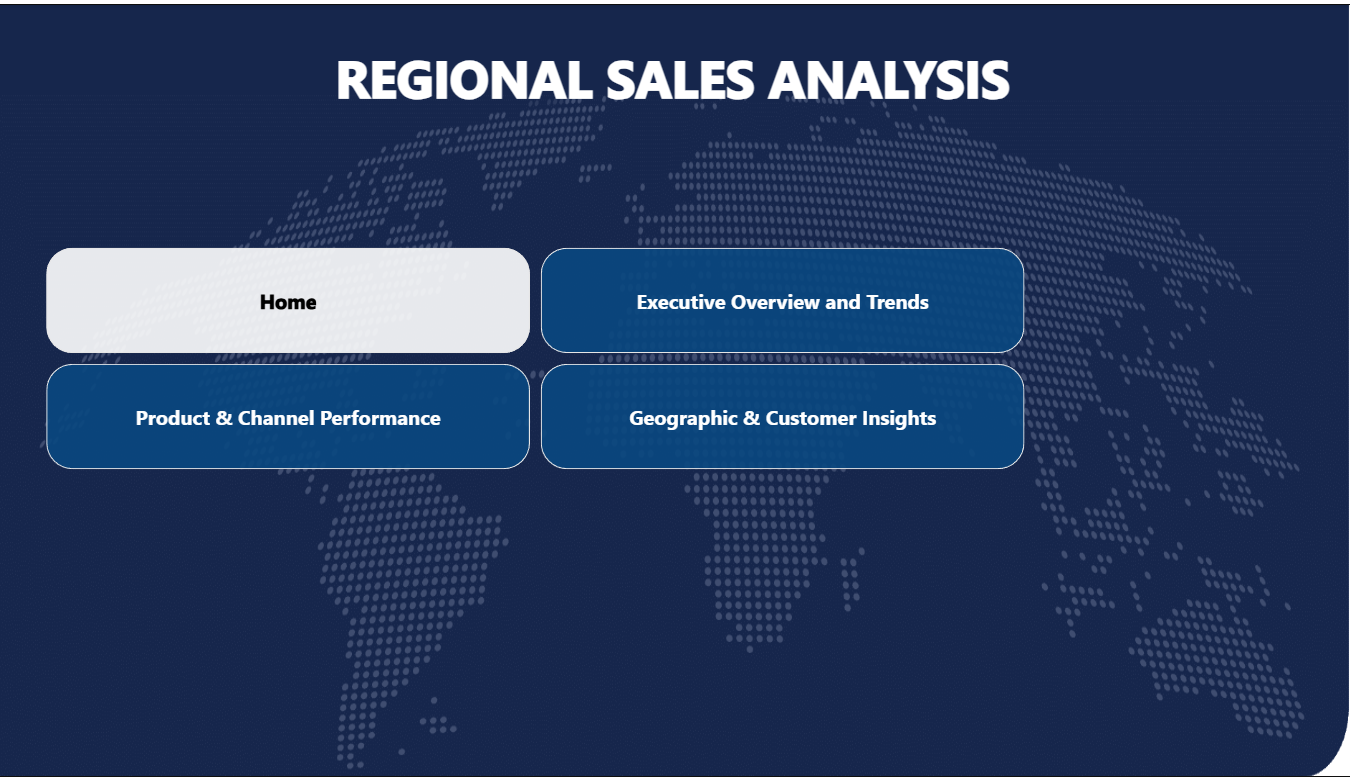

This screenshot's page, from the dashboard's own definition file:
{"tool":"powerbi","page":{"name":"Home","canvas":[1280,720],"ordinal":0},"visuals":[{"type":"textbox","box":[170.2,30.2,940,98.8],"z":0},{"type":"pageNavigator","box":[56.9,226.4,910.3,207],"z":1000}]}

Visuals, with their boxes in screenshot pixels (x1, y1, x2, y2), scaled from the page's 1280x720 canvas onto the 1350x777 screenshot:
textbox: l=180, t=33, r=1171, b=139
pageNavigator: l=60, t=244, r=1020, b=468
